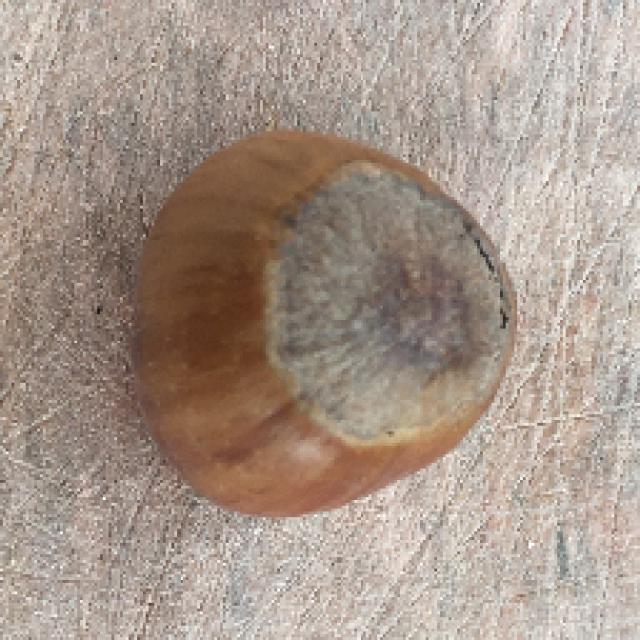DamagedHazelnut: (134, 128, 521, 518)
